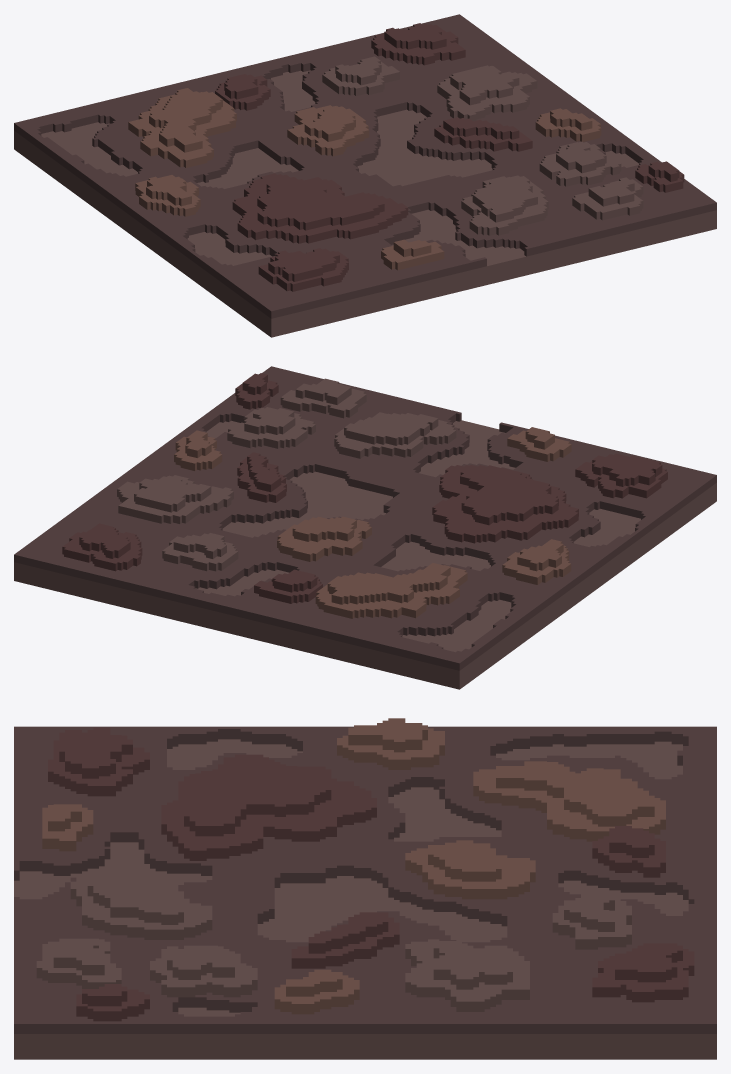
The model's file is tileFloor3W1.obj.
3 renders of one model, top to bottom at view 1: azimuth 30°, elevation 25°; view 2: azimuth 150°, elevation 25°; view 3: azimuth 270°, elevation 25°, orthographic. The views are drawn at different scales.
Bounding box in the file's own units: 12.4 × 1.1 × 12.4.
1 material, 1 textured.
